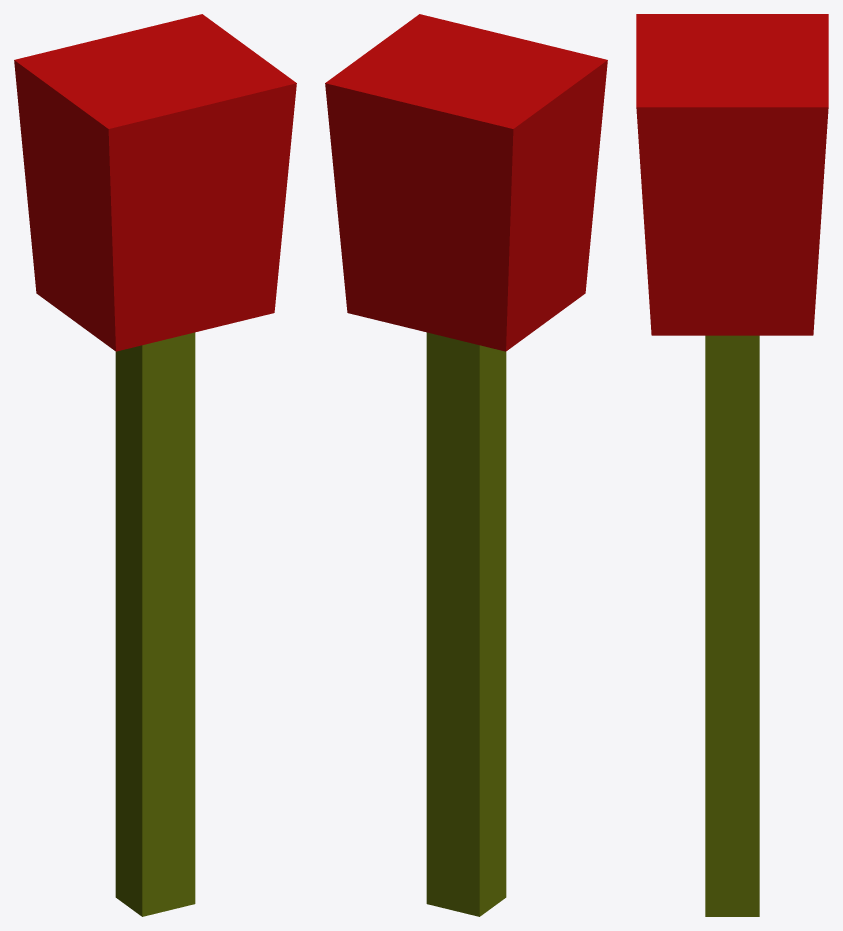
File: CityFlower_02.fbx
3 renders of one model, left to right at view 1: azimuth 30°, elevation 25°; view 2: azimuth 150°, elevation 25°; view 3: azimuth 270°, elevation 25°, orthographic.
Parts seen in each view (by area): view 1: CityFlower_02; view 2: CityFlower_02; view 3: CityFlower_02.
Boxes of the visible parts, <box> form: CityFlower_02: <box>14,14,296,916</box>; CityFlower_02: <box>325,14,607,916</box>; CityFlower_02: <box>636,14,828,916</box>.
Bounding box in the file's own units: 0.0199 × 0.0838 × 0.0173.
